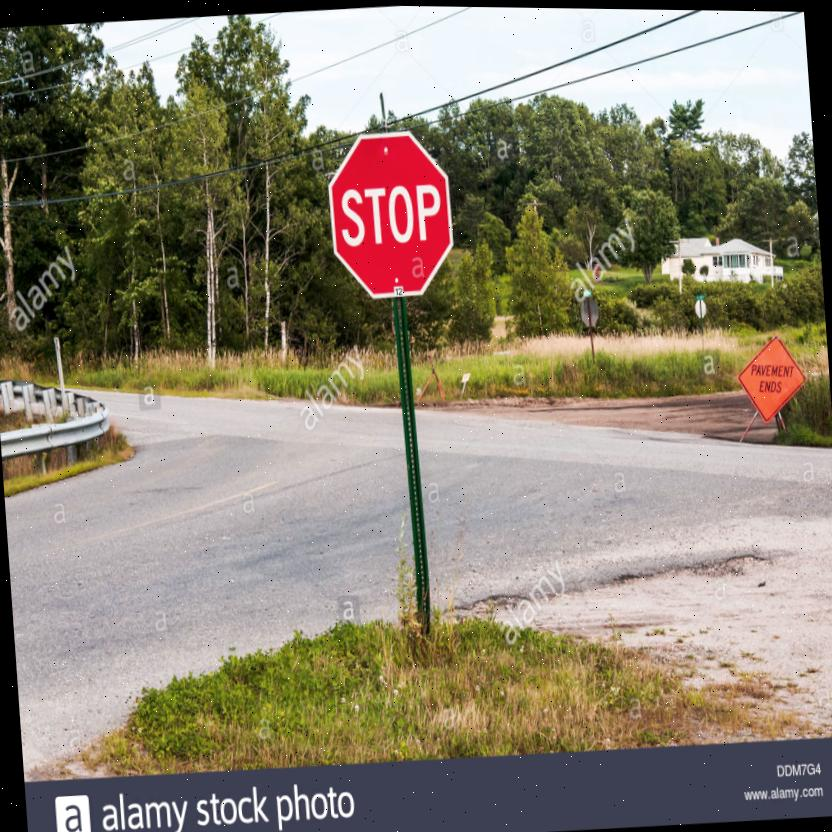Pole: (392, 297, 432, 627), (590, 325, 596, 363), (700, 316, 704, 331)
Sign: (325, 128, 457, 302), (578, 293, 600, 326), (693, 297, 708, 317)
